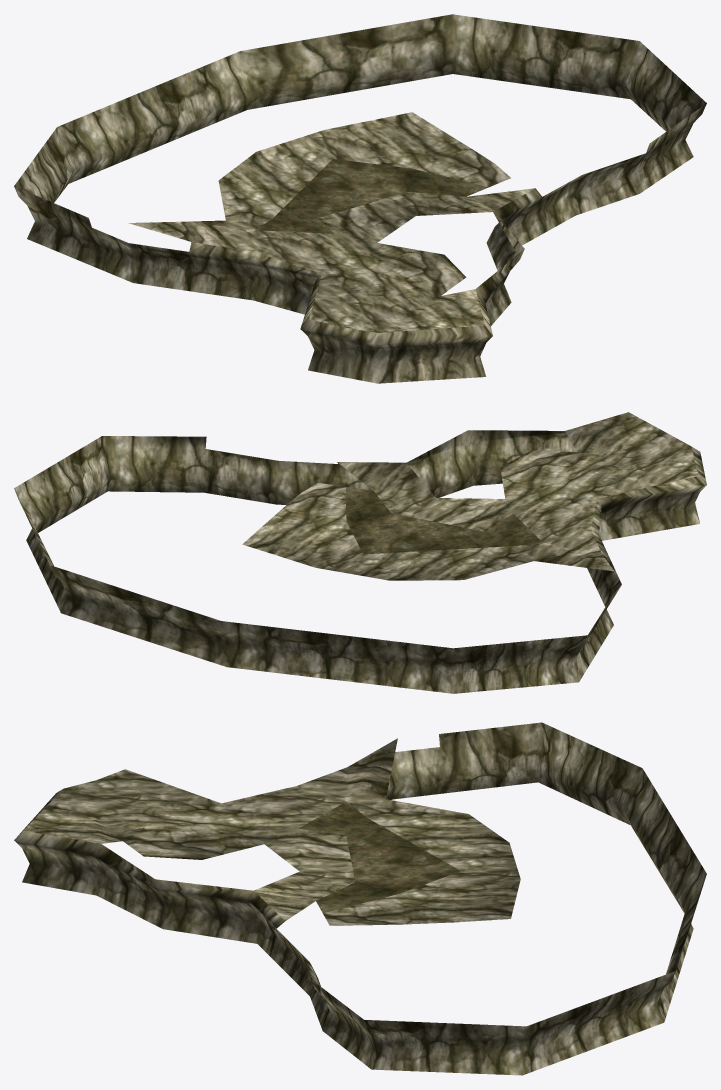
Rendered from CB_NEWPLAYSURFACE_CB_PLAYSURFACE27.fbx.
The picture shows the model from 3 angles, top to bottom: view 1: azimuth 30°, elevation 25°; view 2: azimuth 150°, elevation 25°; view 3: azimuth 270°, elevation 25°; orthographic projection. The views are drawn at different scales.
Visible parts, largest first — view 1: CB_NEWPLAYSURFACE_CB_PLAYSURFACE27; view 2: CB_NEWPLAYSURFACE_CB_PLAYSURFACE27; view 3: CB_NEWPLAYSURFACE_CB_PLAYSURFACE27.
Boxes of the visible parts, x1,y1,x2,y2 form: CB_NEWPLAYSURFACE_CB_PLAYSURFACE27: (14, 14, 706, 383); CB_NEWPLAYSURFACE_CB_PLAYSURFACE27: (14, 412, 706, 693); CB_NEWPLAYSURFACE_CB_PLAYSURFACE27: (14, 722, 706, 1075).
Size of the model in its own units: 323119 by 29601 by 311380.
3 materials, 3 textured.
